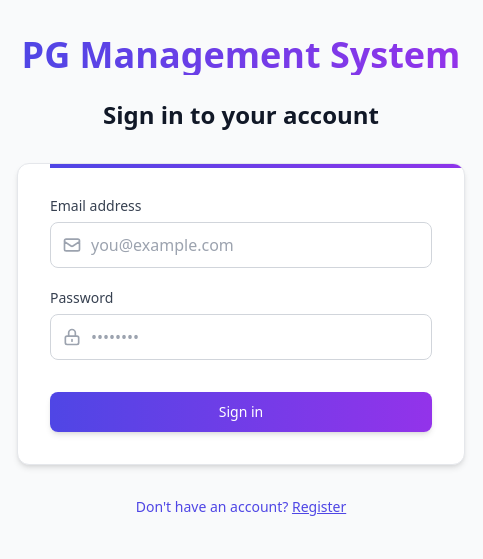
it: LoginPage › validates form inputs
The image size is (483, 559).
Note: Submit the form without filling in any fields
Click the button "Sign in".
click(241, 412)  # box [50, 392, 432, 432]
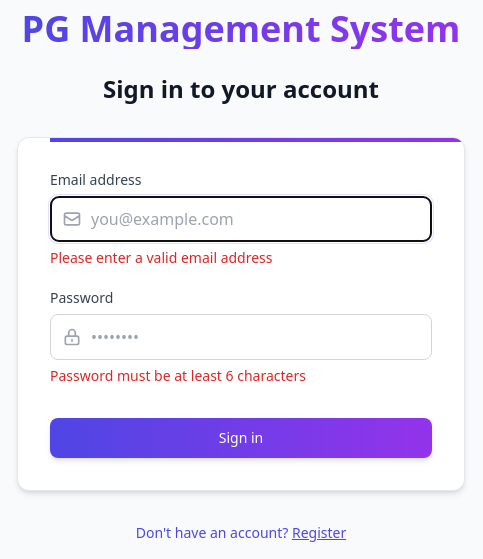
expect the text "Please enter a valid email address" is shown: met, box [50, 248, 272, 267]
expect the text "Password must be at least 6 characters" is shown: met, box [50, 366, 306, 385]
